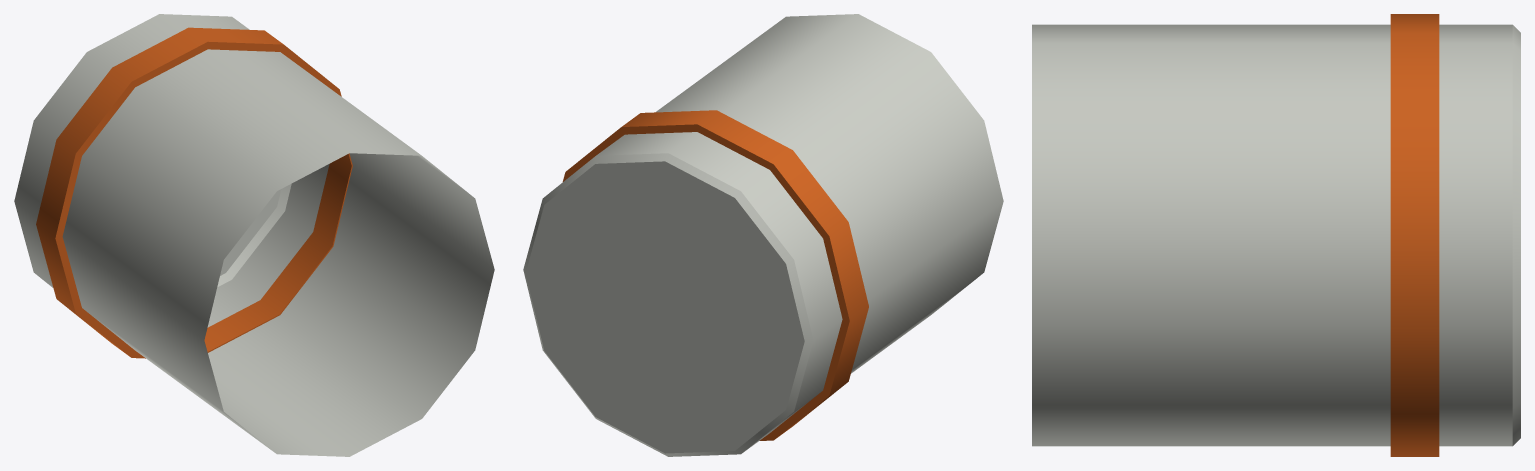
File: u65m_housing.obj
3 renders of one model, left to right at view 1: azimuth 30°, elevation 25°; view 2: azimuth 150°, elevation 25°; view 3: azimuth 270°, elevation 25°, orthographic. The views are drawn at different scales.
Parts seen in each view (by area): view 1: u65m_housing; view 2: u65m_housing; view 3: u65m_housing.
Boxes of the visible parts, x1,y1,x2,y2 form: u65m_housing: (14,14,494,456); u65m_housing: (523,14,1003,456); u65m_housing: (1032,14,1520,456).
Size of the model in its own units: 2.73 by 2.73 by 3.
